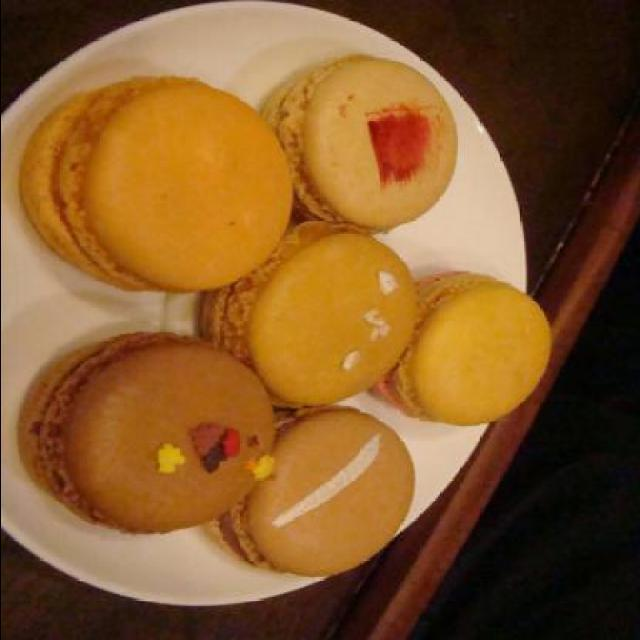Macaron: (10, 45, 553, 578)
